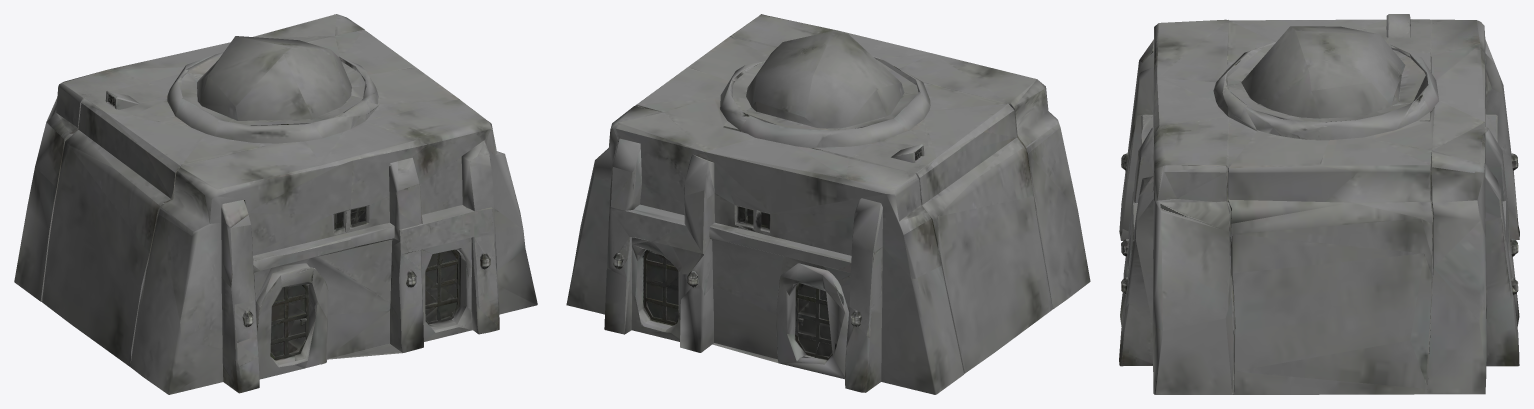
File: nevarrohouse.lod1.glb
3 renders of one model, left to right at view 1: azimuth 30°, elevation 25°; view 2: azimuth 150°, elevation 25°; view 3: azimuth 270°, elevation 25°, orthographic. The views are drawn at different scales.
Visible parts, largest first — view 1: nevarrohouse-centred; view 2: nevarrohouse-centred; view 3: nevarrohouse-centred.
Boxes of the visible parts, bbox=[...] form: nevarrohouse-centred: bbox=[14, 14, 537, 394]; nevarrohouse-centred: bbox=[566, 14, 1090, 394]; nevarrohouse-centred: bbox=[1119, 14, 1519, 394].
Bounding box in the file's own units: 12 × 7.79 × 10.47.
1 material, 1 textured.
